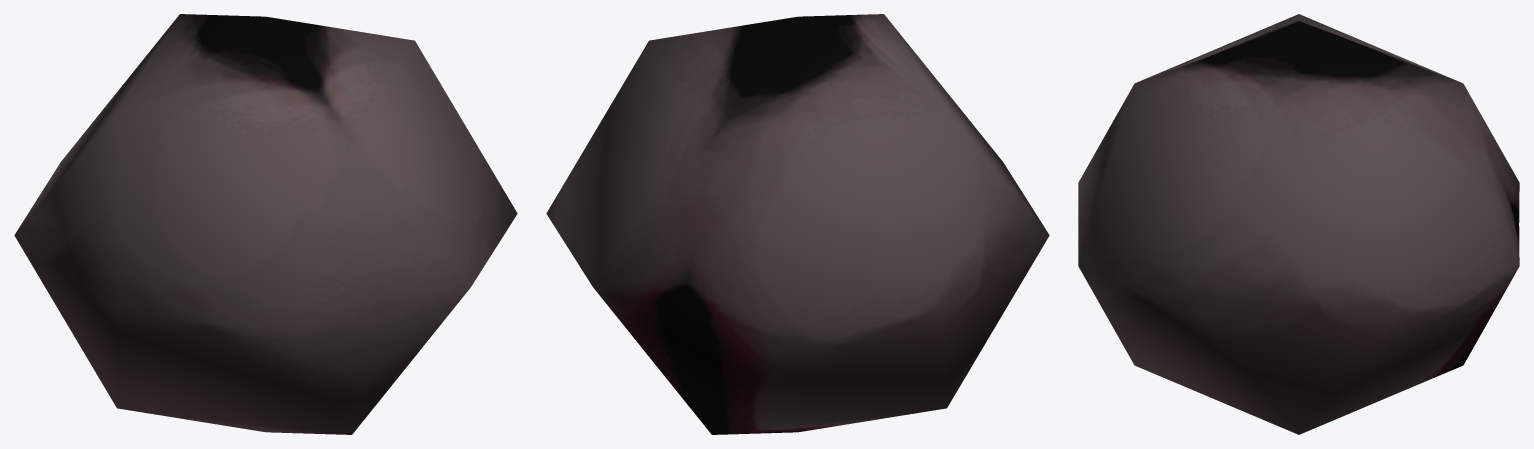
Rendered from Dice_Mortar_wepon.fbx.
The picture shows the model from 3 angles, left to right: view 1: azimuth 30°, elevation 25°; view 2: azimuth 150°, elevation 25°; view 3: azimuth 270°, elevation 25°; orthographic projection. The views are drawn at different scales.
Parts seen in each view (by area): view 1: Dice_Mortar_wepon; view 2: Dice_Mortar_wepon; view 3: Dice_Mortar_wepon.
Part boxes in pixels (<box>): Dice_Mortar_wepon: <box>14,14,517,434</box>; Dice_Mortar_wepon: <box>546,14,1049,434</box>; Dice_Mortar_wepon: <box>1078,14,1519,434</box>.
Size of the model in its own units: 18.02 by 17.91 by 18.02.
